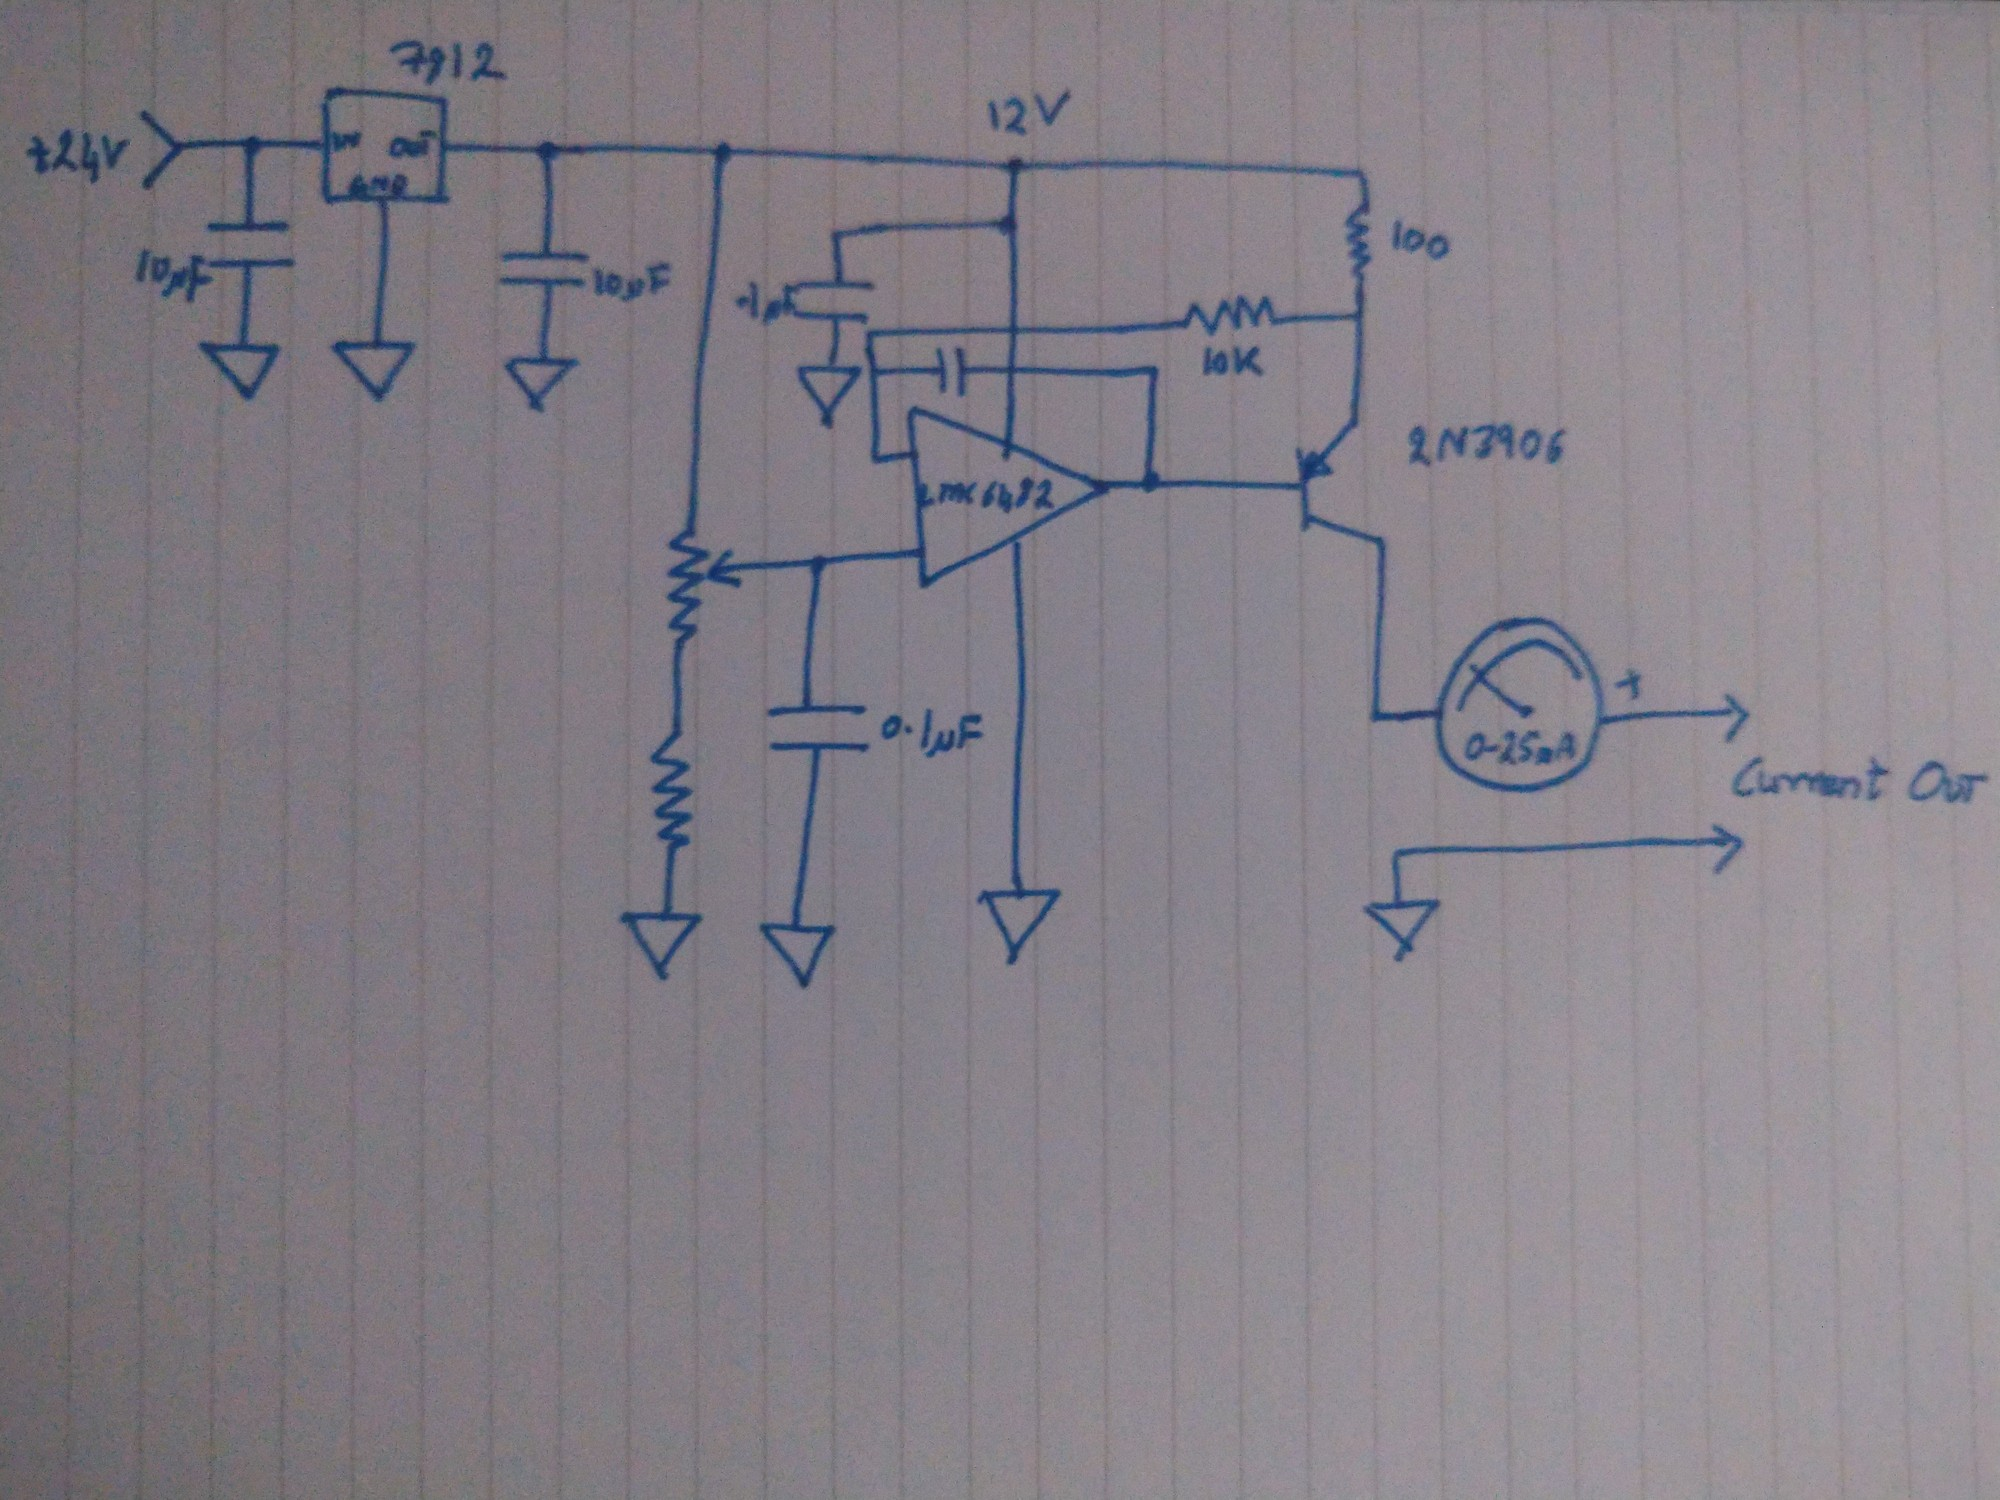capacitor.unpolarized: (764, 695, 872, 769), (202, 213, 298, 276), (491, 241, 591, 299), (794, 273, 872, 328), (924, 343, 978, 399)
crossover: (1002, 318, 1028, 343), (1000, 358, 1024, 380)
gnd: (973, 884, 1068, 967), (754, 919, 843, 993), (617, 908, 706, 982), (328, 337, 420, 405), (195, 337, 283, 405), (1361, 897, 1444, 960), (502, 353, 583, 416), (795, 361, 861, 433)
junction: (235, 128, 268, 164), (1135, 463, 1165, 503), (991, 210, 1024, 243), (802, 548, 836, 580), (1002, 151, 1036, 183), (531, 134, 564, 165), (706, 136, 734, 169), (1350, 161, 1378, 184), (1362, 704, 1389, 728), (1140, 358, 1165, 381), (1343, 304, 1370, 326), (1386, 843, 1409, 867), (863, 359, 883, 381), (825, 224, 847, 244), (858, 325, 882, 343), (868, 447, 890, 466)
operational_amplifier: (902, 402, 1113, 594)
probe.current: (1430, 611, 1608, 796)
resistor: (644, 728, 699, 852), (1176, 290, 1282, 339), (1342, 200, 1384, 280)
resistor.adjustable: (658, 525, 743, 652)
terminal: (131, 107, 184, 195), (1702, 819, 1748, 881), (1713, 689, 1751, 745)
text: (1726, 752, 1995, 815), (1402, 418, 1572, 471), (877, 704, 992, 767), (386, 33, 513, 88), (20, 124, 134, 186), (980, 84, 1079, 139), (917, 477, 1063, 512), (131, 247, 213, 307), (1465, 728, 1576, 767), (591, 262, 676, 309), (1387, 213, 1455, 266), (729, 277, 798, 329), (1197, 340, 1269, 386), (346, 172, 413, 199), (387, 128, 436, 161), (332, 129, 365, 154)
transistor: (1287, 416, 1394, 553)
voltage.dc_regulator: (313, 80, 454, 217)
